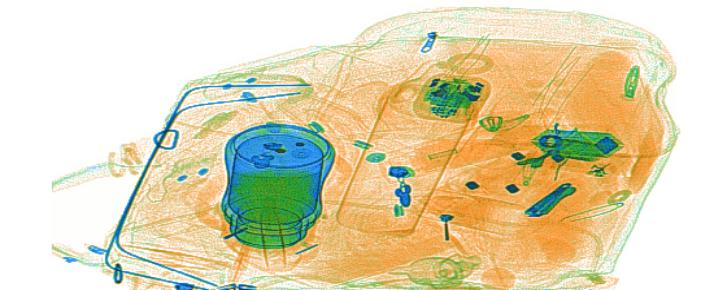plasticBottleWithaNozzle: (376, 111, 559, 183)
